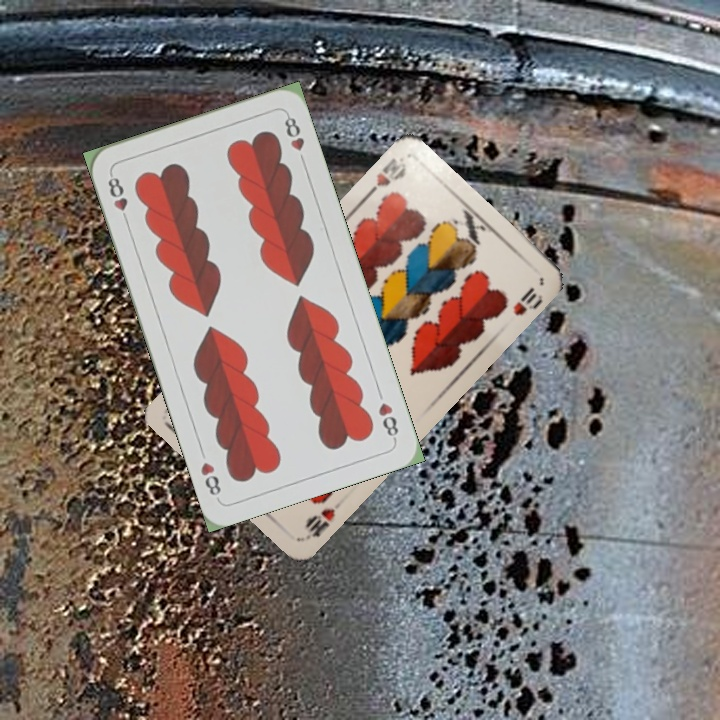H10: (361, 153, 409, 201), (301, 494, 347, 542)
H8: (103, 169, 132, 227), (374, 398, 401, 443)
